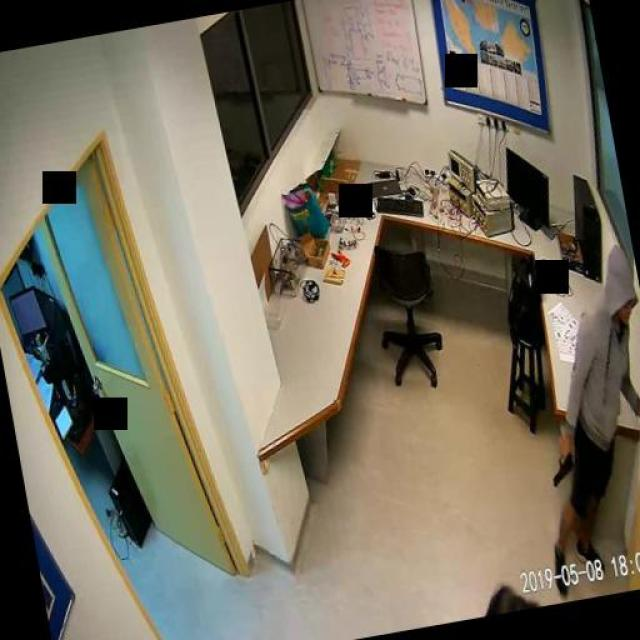gun: (542, 449, 578, 489)
